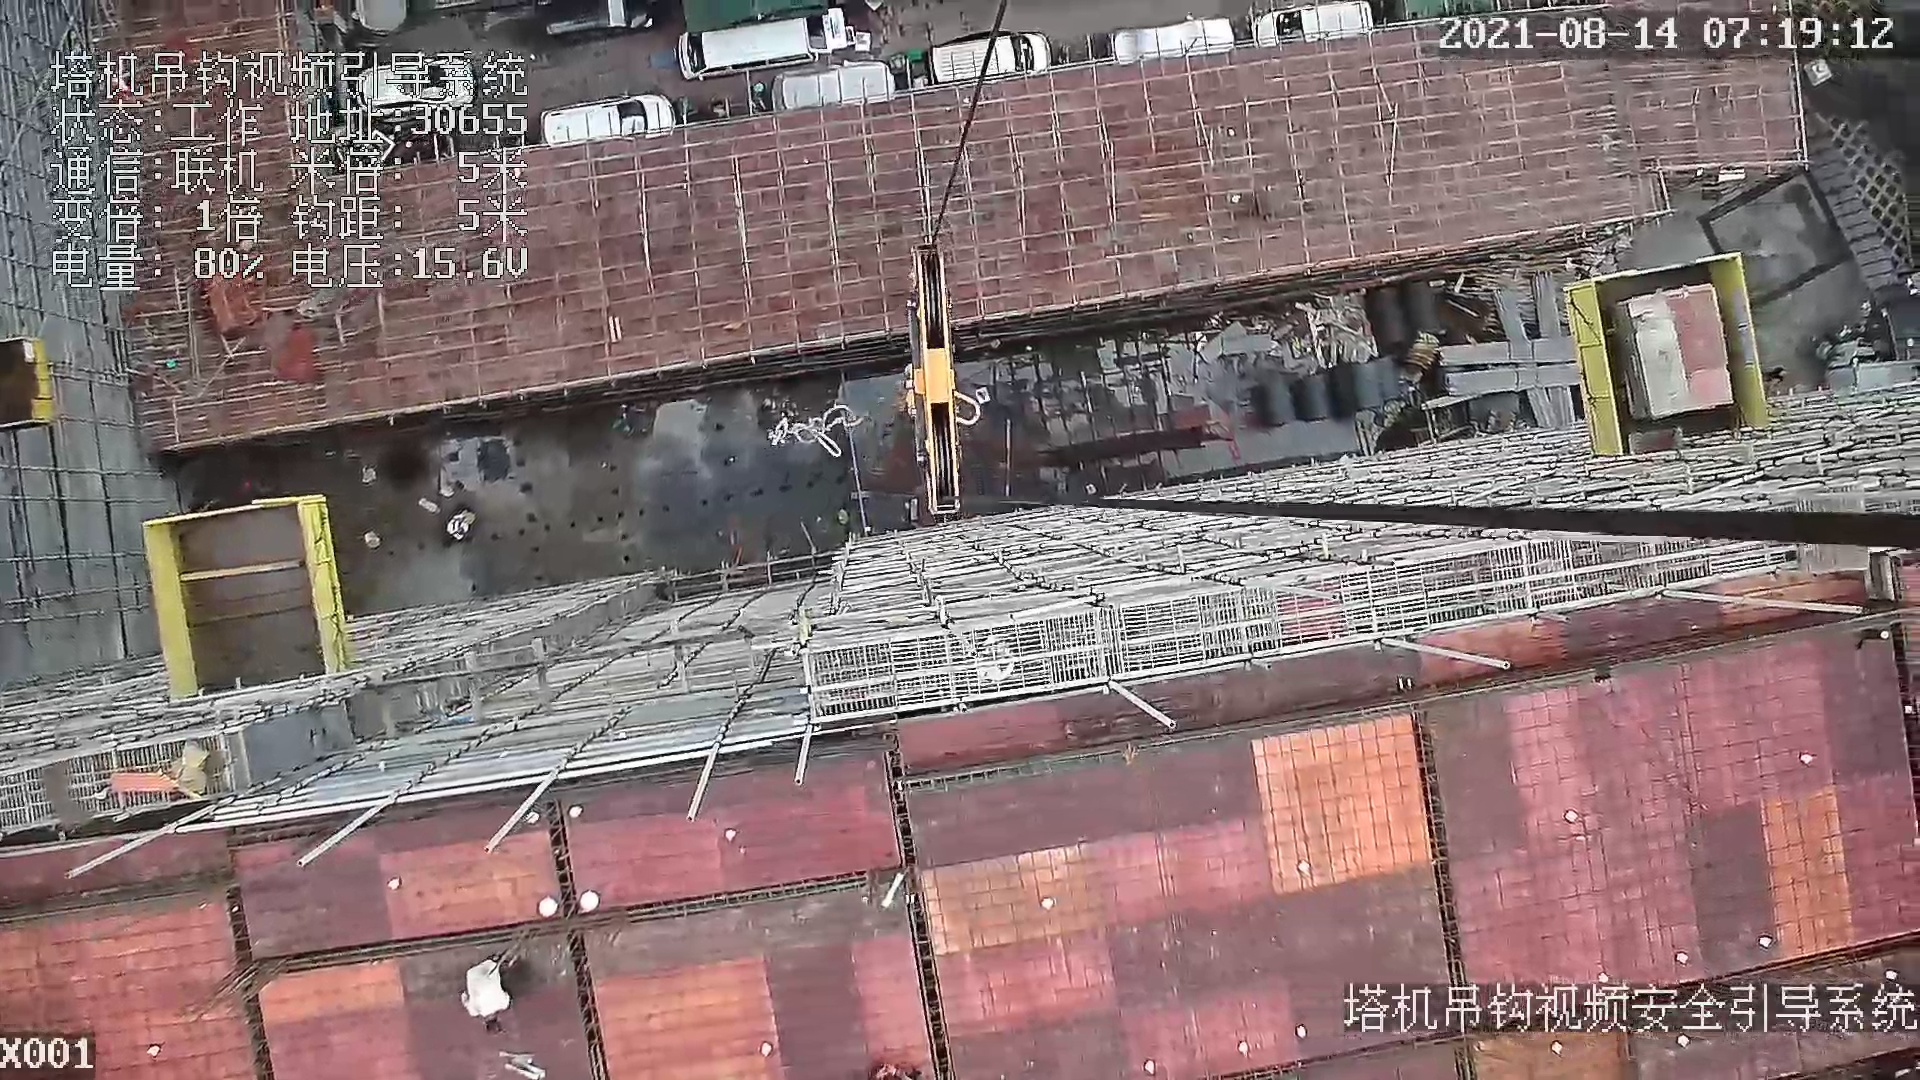hook: (904, 242, 988, 519)
person: (463, 958, 518, 1028)
